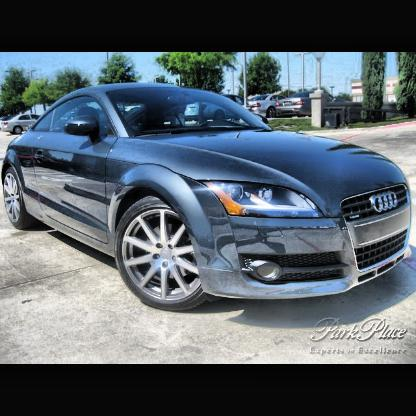Audi TTS Coupe 2012: (2, 85, 414, 316)
